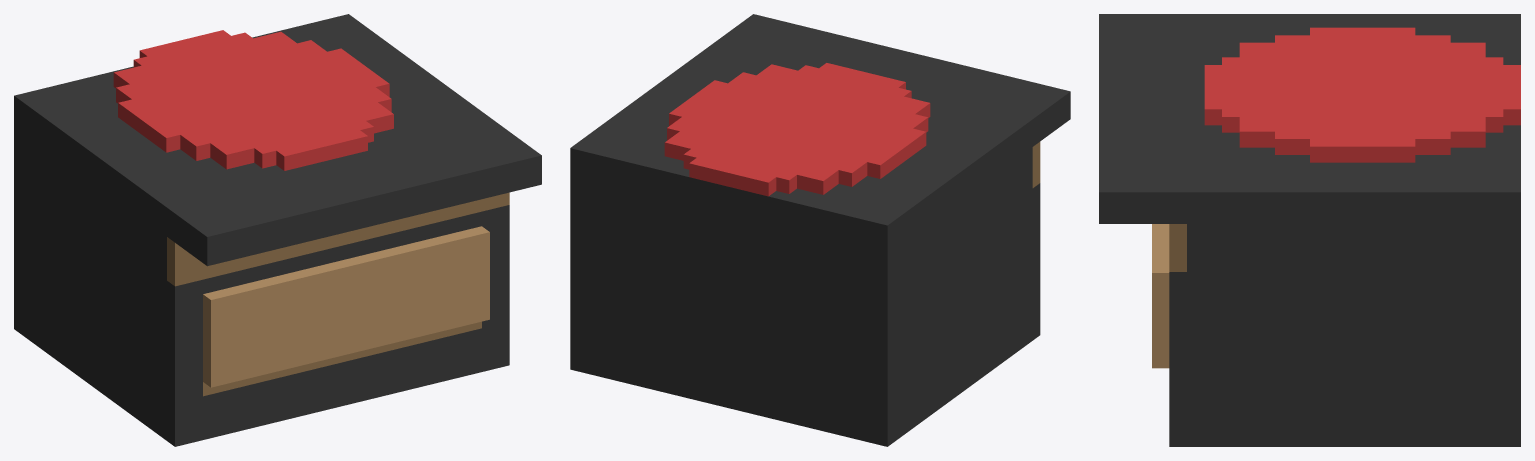
File: furniture.vox-1-stove.obj
3 renders of one model, left to right at view 1: azimuth 30°, elevation 25°; view 2: azimuth 150°, elevation 25°; view 3: azimuth 270°, elevation 25°, orthographic. The views are drawn at different scales.
Parts seen in each view (by area): view 1: stove; view 2: stove; view 3: stove.
Boxes of the visible parts, box(x1,y1,x2,y2) form: stove: box(14, 14, 541, 446); stove: box(570, 14, 1070, 446); stove: box(1099, 14, 1520, 446).
Bounding box in the file's own units: 2.4 × 1.7 × 2.4.
Materials: 1 (1 with a texture image).
